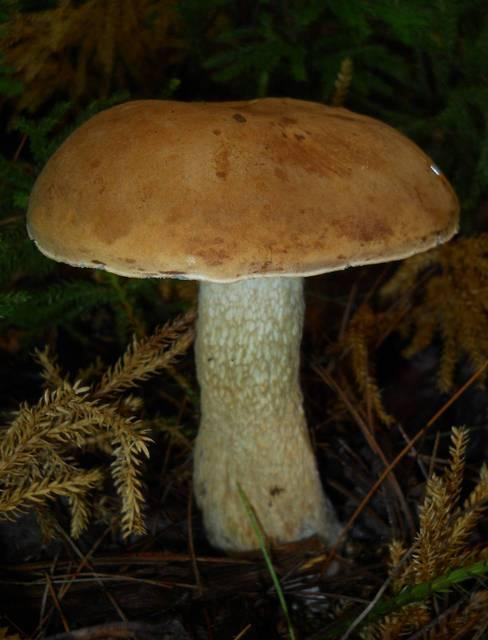Non-edible Mushroom: (24, 94, 462, 558)
